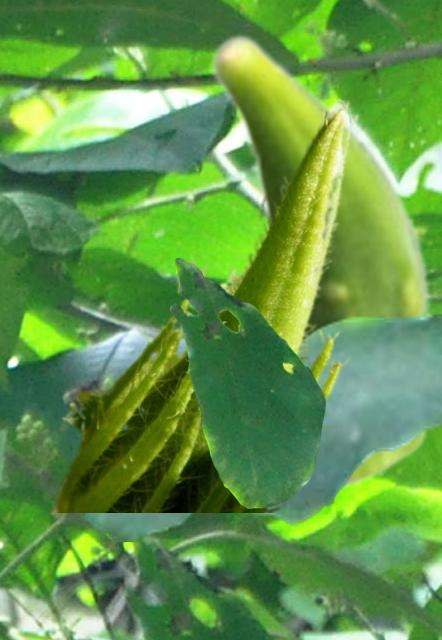okra: (48, 96, 359, 511), (208, 32, 433, 490)
